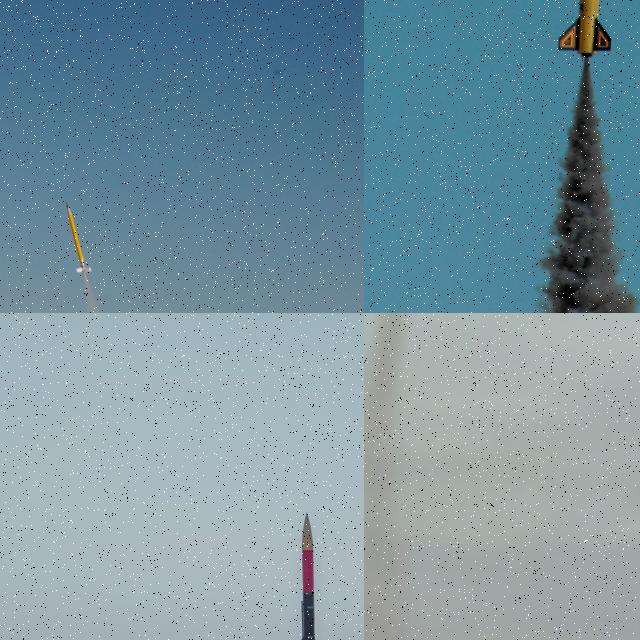Rocket: (290, 511, 324, 640), (556, 0, 613, 57), (66, 201, 92, 273)
